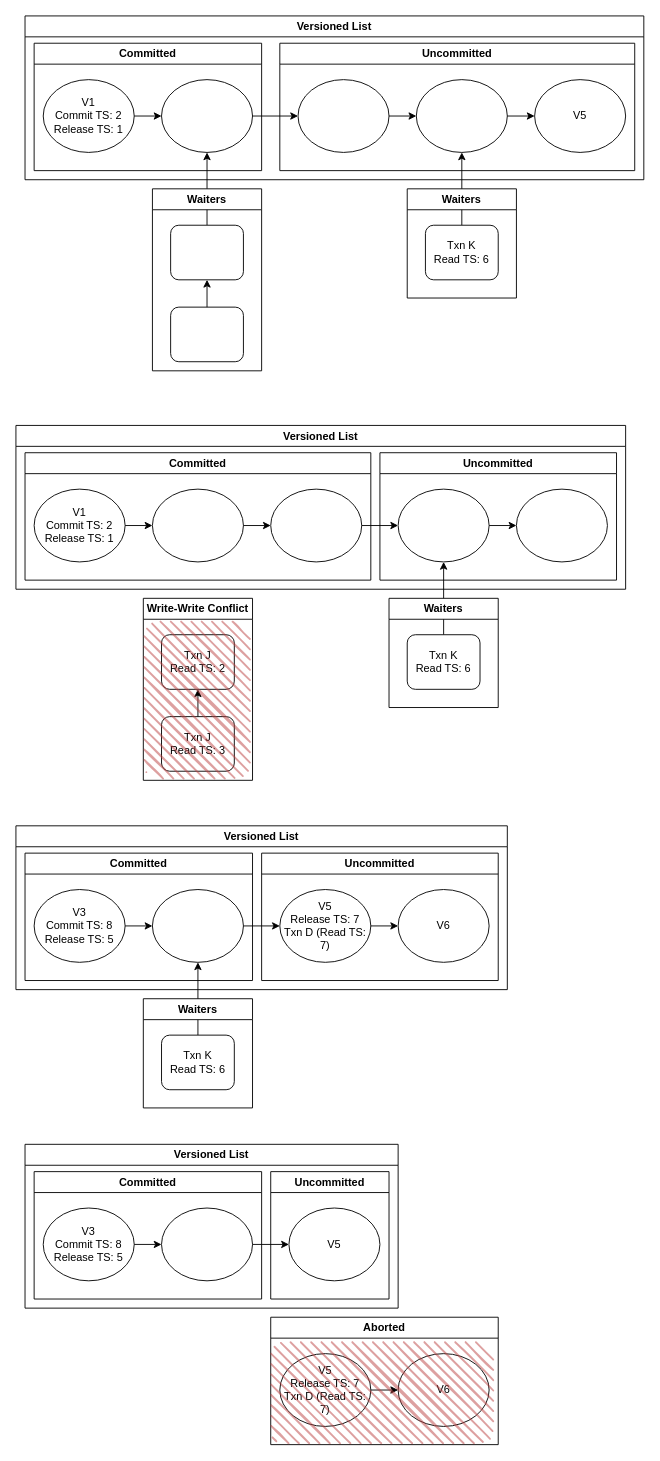
This 660x1461 diagram has some shape labels left out. Here are the shapes that lost their labels. From the top down, the centre of each, then its label:
the point at 207,115: V2 Commit TS: 3 Release TS: 2 Txn A (Read TS: 3)
the point at 343,115: V3 Release TS: 5 Txn B (Read TS: 5)
the point at 461,115: V4 Release TS: 6 (Txn C, Read TS: 6)
the point at 206,252: Txn H Read TS: 3
the point at 206,334: Txn J Read TS: 4
the point at 197,525: V2 Commit TS: 3 Release TS: 2
the point at 316,525: V3 Commit TS: 8 Release TS: 5 Txn B (Read TS: 5)
the point at 443,525: V4 Release TS: 6 Txn C (Read TS: 6)
the point at 561,525: V5 Release TS: 7
the point at 197,925: V4 Commit TS: 9 Release TS: 6 Txn C (Read TS: 6)
the point at 207,1244: V4 Commit TS: 9 Release TS: 6 Txn K (Read TS: 6)
